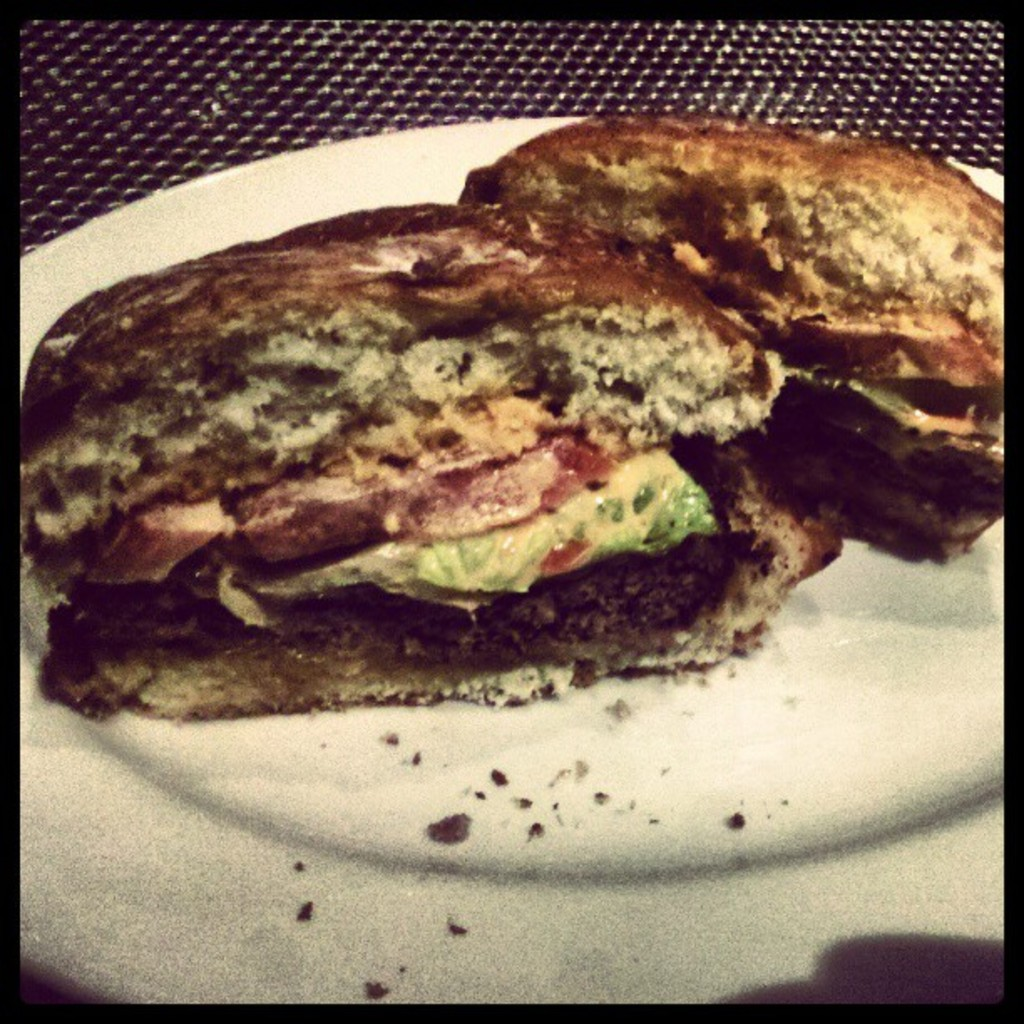Hamburger: (25, 199, 813, 714), (465, 118, 1002, 560)
